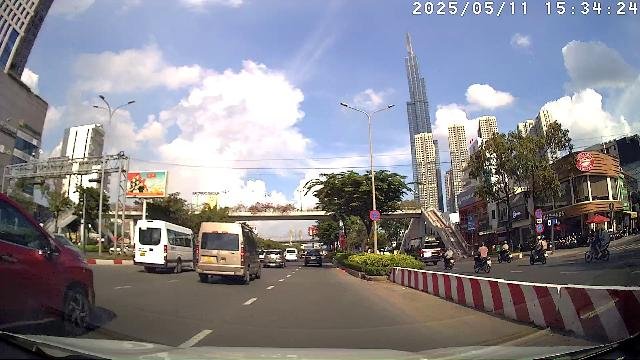130-cam-dung-va-do-xe: (370, 210, 380, 221), (535, 209, 543, 218)
131a-cam-do-xe: (536, 224, 544, 233)
